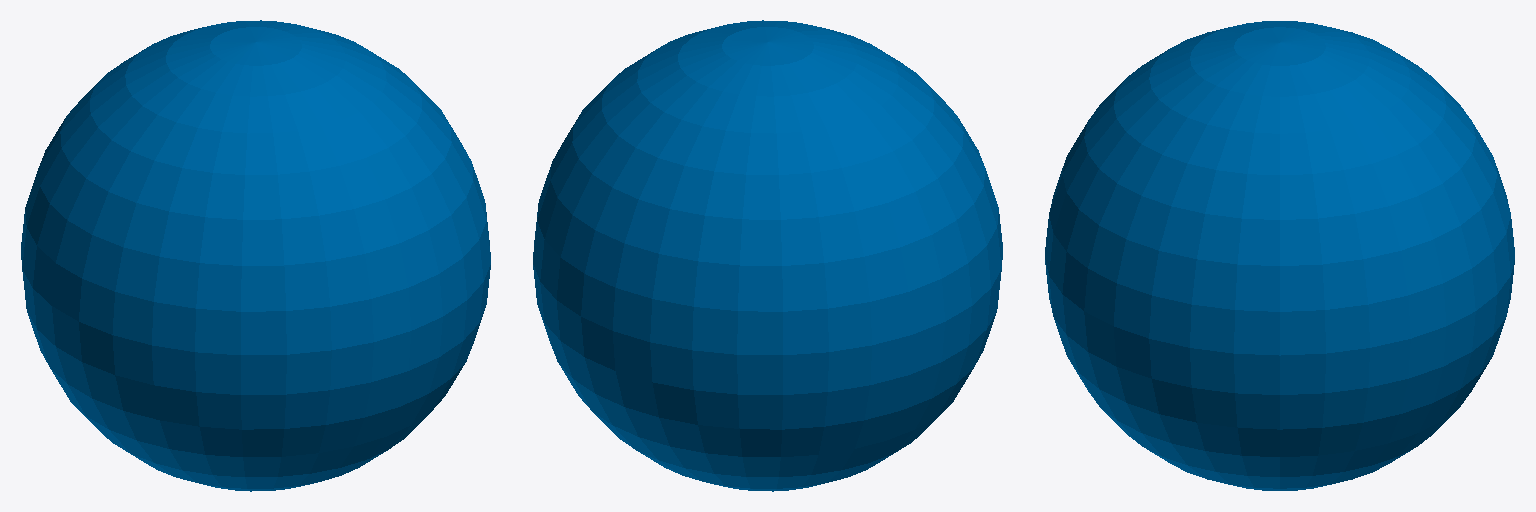
The robot description file, URDF, robot "panda":
<?xml version="1.0" ?>
<!-- =================================================================================== -->
<!-- |    This document was autogenerated by xacro from panda_arm_hand.urdf.xacro      | -->
<!-- |    EDITING THIS FILE BY HAND IS NOT RECOMMENDED                                 | -->
<!-- =================================================================================== -->
<robot name="panda" xmlns:xacro="http://www.ros.org/wiki/xacro">
  <link name="panda_link0">
  	<inertial>
      <origin rpy="0 0 0" xyz="0 0 0.05"/>
       <mass value="2.9"/>
       <inertia ixx="0.1" ixy="0" ixz="0" iyy="0.1" iyz="0" izz="0.1"/>
    </inertial>
    <visual>
      <geometry>
        <mesh filename="package://meshes/collision/link0.obj"/>
      </geometry>
      <material name="panda_white">
    		<color rgba="1. 1. 1. 1."/>
  		</material>
    </visual>
    <collision>
      <geometry>
        <mesh filename="package://meshes/collision/link0.obj"/>
      </geometry>
      <material name="panda_white"/>
    </collision>
  </link>
  <link name="panda_link1">
  	<inertial>
      <origin rpy="0 0 0" xyz="0 -0.04 -0.05"/>
       <mass value="2.7"/>
       <inertia ixx="0.1" ixy="0" ixz="0" iyy="0.1" iyz="0" izz="0.1"/>
    </inertial>
    <visual>
      <geometry>
        <mesh filename="package://meshes/visual/link1.obj"/>
      </geometry>
      <material name="panda_white"/>
    </visual>
    <collision>
      <geometry>
        <mesh filename="package://meshes/collision/link1.obj"/>
      </geometry>
      <material name="panda_white"/>
    </collision>
  </link>
  <joint name="panda_joint1" type="revolute">
    <safety_controller k_position="100.0" k_velocity="40.0" soft_lower_limit="-2.8973" soft_upper_limit="2.8973"/>
    <origin rpy="0 0 0" xyz="0 0 0.333"/>
    <parent link="panda_link0"/>
    <child link="panda_link1"/>
    <axis xyz="0 0 1"/>
    <limit effort="87" lower="-2.9671" upper="2.9671" velocity="2.1750"/>
  </joint>
  <link name="panda_link2">
  	<inertial>
      <origin rpy="0 0 0" xyz="0 -0.04 0.06"/>
       <mass value="2.73"/>
       <inertia ixx="0.1" ixy="0" ixz="0" iyy="0.1" iyz="0" izz="0.1"/>
    </inertial>
    <visual>
      <geometry>
        <mesh filename="package://meshes/visual/link2.obj"/>
      </geometry>
      <material name="panda_white"/>
    </visual>
    <collision>
      <geometry>
        <mesh filename="package://meshes/collision/link2.obj"/>
      </geometry>
      <material name="panda_white"/>
    </collision>
  </link>
  <joint name="panda_joint2" type="revolute">
    <safety_controller k_position="100.0" k_velocity="40.0" soft_lower_limit="-1.7628" soft_upper_limit="1.7628"/>
    <origin rpy="-1.57079632679 0 0" xyz="0 0 0"/>
    <parent link="panda_link1"/>
    <child link="panda_link2"/>
    <axis xyz="0 0 1"/>
    <limit effort="87" lower="-1.8326" upper="1.8326" velocity="2.1750"/>
  </joint>
  <link name="panda_link3">
	  <inertial>
      <origin rpy="0 0 0" xyz="0.01 0.01 -0.05"/>
       <mass value="2.04"/>
       <inertia ixx="0.1" ixy="0" ixz="0" iyy="0.1" iyz="0" izz="0.1"/>
    </inertial>
    <visual>
      <geometry>
        <mesh filename="package://meshes/visual/link3.obj"/>
      </geometry>
      <material name="panda_red">
    		<color rgba="1. 1. 1. 1."/>
  		</material>
    </visual>
    <collision>
      <geometry>
        <mesh filename="package://meshes/collision/link3.obj"/>
      </geometry>
    </collision>
  </link>
  <joint name="panda_joint3" type="revolute">
    <safety_controller k_position="100.0" k_velocity="40.0" soft_lower_limit="-2.8973" soft_upper_limit="2.8973"/>
    <origin rpy="1.57079632679 0 0" xyz="0 -0.316 0"/>
    <parent link="panda_link2"/>
    <child link="panda_link3"/>
    <axis xyz="0 0 1"/>
    <limit effort="87" lower="-2.9671" upper="2.9671" velocity="2.1750"/>
  </joint>
  <link name="panda_link4">
  	<inertial>
      <origin rpy="0 0 0" xyz="-0.03 0.03 0.02"/>
       <mass value="2.08"/>
       <inertia ixx="0.1" ixy="0" ixz="0" iyy="0.1" iyz="0" izz="0.1"/>
    </inertial>
    <visual>
      <geometry>
        <mesh filename="package://meshes/visual/link4.obj"/>
      </geometry>
      <material name="panda_white"/>
    </visual>
    <collision>
      <geometry>
        <mesh filename="package://meshes/collision/link4.obj"/>
      </geometry>
      <material name="panda_white"/>
    </collision>
  </link>
  <joint name="panda_joint4" type="revolute">
    <safety_controller k_position="100.0" k_velocity="40.0" soft_lower_limit="-3.0718" soft_upper_limit="-0.0698"/>
    <origin rpy="1.57079632679 0 0" xyz="0.0825 0 0"/>
    <parent link="panda_link3"/>
    <child link="panda_link4"/>
    <axis xyz="0 0 1"/>
    <limit effort="87" lower="-3.1416" upper="0.0" velocity="2.1750"/>
  </joint>
  <link name="panda_link5">
  	<inertial>
      <origin rpy="0 0 0" xyz="0 0.04 -0.12"/>
       <mass value="3"/>
       <inertia ixx="0.1" ixy="0" ixz="0" iyy="0.1" iyz="0" izz="0.1"/>
    </inertial>
    <visual>
      <geometry>
        <mesh filename="package://meshes/visual/link5.obj"/>
      </geometry>
      <material name="panda_white"/>
    </visual>
    <collision>
      <geometry>
        <mesh filename="package://meshes/collision/link5.obj"/>
      </geometry>
      <material name="panda_white"/>
    </collision>
  </link>
  <joint name="panda_joint5" type="revolute">
    <safety_controller k_position="100.0" k_velocity="40.0" soft_lower_limit="-2.8973" soft_upper_limit="2.8973"/>
    <origin rpy="-1.57079632679 0 0" xyz="-0.0825 0.384 0"/>
    <parent link="panda_link4"/>
    <child link="panda_link5"/>
    <axis xyz="0 0 1"/>
    <limit effort="12" lower="-2.9671" upper="2.9671" velocity="2.6100"/>
  </joint>
  <link name="panda_link6">
  	<inertial>
      <origin rpy="0 0 0" xyz="0.04 0 0"/>
       <mass value="1.3"/>
       <inertia ixx="0.1" ixy="0" ixz="0" iyy="0.1" iyz="0" izz="0.1"/>
    </inertial>
    <visual>
      <geometry>
        <mesh filename="package://meshes/visual/link6.obj"/>
      </geometry>
      <material name="panda_white"/>
    </visual>
    <collision>
      <geometry>
        <mesh filename="package://meshes/collision/link6.obj"/>
      </geometry>
      <material name="panda_white"/>
    </collision>
  </link>
  <joint name="panda_joint6" type="revolute">
    <safety_controller k_position="100.0" k_velocity="40.0" soft_lower_limit="-0.0175" soft_upper_limit="3.7525"/>
    <origin rpy="1.57079632679 0 0" xyz="0 0 0"/>
    <parent link="panda_link5"/>
    <child link="panda_link6"/>
    <axis xyz="0 0 1"/>
    <limit effort="12" lower="-0.0873" upper="3.8223" velocity="2.6100"/>
  </joint>
  <link name="panda_link7">
  	<inertial>
      <origin rpy="0 0 0" xyz="0 0 0.08"/>
       <mass value=".2"/>
       <inertia ixx="0.1" ixy="0" ixz="0" iyy="0.1" iyz="0" izz="0.1"/>
    </inertial>
    <visual>
      <geometry>
        <mesh filename="package://meshes/collision/link7.obj"/>
      </geometry>
      <material name="panda_white"/>
    </visual>
    <collision>
      <geometry>
        <mesh filename="package://meshes/collision/link7.obj"/>
      </geometry>
      <material name="panda_white"/>
    </collision>
  </link>
  <joint name="panda_joint7" type="revolute">
    <safety_controller k_position="100.0" k_velocity="40.0" soft_lower_limit="-2.8973" soft_upper_limit="2.8973"/>
    <origin rpy="1.57079632679 0 0" xyz="0.088 0 0"/>
    <parent link="panda_link6"/>
    <child link="panda_link7"/>
    <axis xyz="0 0 1"/>
    <limit effort="12" lower="-2.9671" upper="2.9671" velocity="2.6100"/>
  </joint>
  <link name="panda_link8">
  	 <inertial>
      <origin rpy="0 0 0" xyz="0 0 0"/>
       <mass value="0.0"/>
       <inertia ixx="0.1" ixy="0" ixz="0" iyy="0.1" iyz="0" izz="0.1"/>
    </inertial>
  </link>
  <joint name="panda_joint8" type="fixed">
    <origin rpy="0 0 0" xyz="0 0 0.107"/>
    <parent link="panda_link7"/>
    <child link="panda_link8"/>
    <axis xyz="0 0 0"/>
  </joint>
  <joint name="panda_hand_joint" type="fixed">
    <parent link="panda_link8"/>
    <child link="panda_hand"/>
    <origin rpy="0 0 -0.785398163397" xyz="0 0 0"/>
  </joint>
  <link name="panda_hand">
  	<inertial>
      <origin rpy="0 0 0" xyz="0 0 0.04"/>
       <mass value=".81"/>
       <inertia ixx="0.1" ixy="0" ixz="0" iyy="0.1" iyz="0" izz="0.1"/>
    </inertial>
    <visual>
      <geometry>
        <mesh filename="package://meshes/visual/hand.obj"/>
      </geometry>
      <material name="panda_white"/>
    </visual>
    <collision>
      <geometry>
        <mesh filename="package://meshes/collision/hand.obj"/>
      </geometry>
      <material name="panda_white"/>
    </collision>
  </link>
  <link name="panda_leftfinger">
       <contact>
      <friction_anchor/>
      <stiffness value="30000.0"/>
      <damping value="1000.0"/>
      <spinning_friction value="0.1"/>
      <rolling_friction value="0.1"/>
      <lateral_friction value="1.0"/>
    </contact>
  	<inertial>
      <origin rpy="0 0 0" xyz="0 0.01 0.02"/>
       <mass value="0.1"/>
       <inertia ixx="0.1" ixy="0" ixz="0" iyy="0.1" iyz="0" izz="0.1"/>
    </inertial>
    <visual>
      <geometry>
        <mesh filename="package://meshes/visual/finger.obj"/>
      </geometry>
      <material name="panda_white"/>
    </visual>
    <collision>
      <geometry>
        <mesh filename="package://meshes/collision/finger.obj"/>
      </geometry>
      <material name="panda_white"/>
    </collision>
  </link>
  <link name="panda_rightfinger">
        <contact>
      <friction_anchor/>
      <stiffness value="30000.0"/>
      <damping value="1000.0"/>
      <spinning_friction value="0.1"/>
      <rolling_friction value="0.1"/>
      <lateral_friction value="1.0"/>
    </contact>
  	<inertial>
      <origin rpy="0 0 0" xyz="0 -0.01 0.02"/>
       <mass value="0.1"/>
       <inertia ixx="0.1" ixy="0" ixz="0" iyy="0.1" iyz="0" izz="0.1"/>
    </inertial>
    <visual>
      <origin rpy="0 0 3.14159265359" xyz="0 0 0"/>
      <geometry>
        <mesh filename="package://meshes/visual/finger.obj"/>
      </geometry>
      <material name="panda_white"/>
    </visual>
    <collision>
      <origin rpy="0 0 3.14159265359" xyz="0 0 0"/>
      <geometry>
        <mesh filename="package://meshes/collision/finger.obj"/>
      </geometry>
      <material name="panda_white"/>
    </collision>
  </link>
  <joint name="panda_finger_joint1" type="prismatic">
    <parent link="panda_hand"/>
    <child link="panda_leftfinger"/>
    <origin rpy="0 0 0" xyz="0 0 0.0584"/>
    <axis xyz="0 1 0"/>
    <limit effort="20" lower="0.0" upper="0.04" velocity="0.2"/>
  </joint>
  <joint name="panda_finger_joint2" type="prismatic">
    <parent link="panda_hand"/>
    <child link="panda_rightfinger"/>
    <origin rpy="0 0 0" xyz="0 0 0.0584"/>
    <axis xyz="0 -1 0"/>
    <limit effort="20" lower="0.0" upper="0.04" velocity="0.2"/>
    <mimic joint="panda_finger_joint1"/>
  </joint>
  <link name="panda_grasptarget">
     <inertial>
      <origin rpy="0 0 0" xyz="0 0 0"/>
       <mass value="0.001"/>
       <inertia ixx="0.1" ixy="0" ixz="0" iyy="0.1" iyz="0" izz="0.1"/>
    </inertial>
    <visual>
      <geometry>
        <sphere radius="0.003"/>
      </geometry>
      <color rgba="1. 0. 0. 1.0"/>
    </visual>
   </link>
  <joint name="panda_grasptarget_hand" type="fixed">
    <parent link="panda_hand"/>
    <child link="panda_grasptarget"/>
    <origin rpy="0 0 0" xyz="0 0 0.07"/>
  </joint>

  <!-- D435 -->
  <!-- camera body, with origin at bottom screw mount -->
  <joint name="camera_joint" type="fixed">
    <origin rpy="0.0 -1.57 3.14" xyz="0.027 0.0 0.02"/>
    <parent link="panda_hand"/>
    <child link="camera_link"/>
  </joint>
  <link name="camera_link">
    <visual>
      <origin rpy="1.57079632679 0 1.57079632679" xyz="0.0149 0.0 0.0125"/>
      <geometry>
        <!-- <box size="${d435_cam_width} ${d435_cam_height} ${d435_cam_depth}"/> -->
        <mesh filename="package://meshes/visual/d435.dae"/>
        <!--<mesh filename="package://realsense2_camera/meshes/d435/d435.dae" />-->
      </geometry>
      <material name="aluminum"/>
    </visual>
    <collision>
      <origin rpy="0 0 0" xyz="0.0 0.0 0.0125"/>
      <geometry>
        <box size="0.02505 0.09 0.025"/>
      </geometry>
    </collision>
    <inertial>
      <!-- The following are not reliable values, and should not be used for modeling -->
      <mass value="0.564"/>
      <origin xyz="0 0 0"/>
      <inertia ixx="0.003881243" ixy="0.0" ixz="0.0" iyy="0.000498940" iyz="0.0" izz="0.003879257"/>
    </inertial>
  </link>
  <!-- camera depth joints and links -->
  <joint name="camera_depth_joint" type="fixed">
    <origin rpy="0 0 0" xyz="0.0149 0.0175 0.0125"/>
    <parent link="camera_link"/>
    <child link="camera_depth_frame"/>
  </joint>
  <link name="camera_depth_frame">
    <inertial>
      <origin rpy="0 0 0" xyz="0 0 0.00"/>
      <mass value="0.00001"/>
      <inertia ixx="0.000001" ixy="0.000" ixz="0" iyy="0.000001" iyz="0" izz="0.000001"/>
    </inertial>
  </link>
  <joint name="camera_depth_optical_joint" type="fixed">
    <origin rpy="-1.57079632679 0 -1.57079632679" xyz="0 0 0"/>
    <parent link="camera_depth_frame"/>
    <child link="camera_depth_optical_frame"/>
  </joint>
  <link name="camera_depth_optical_frame">
    <inertial>
      <origin rpy="0 0 0" xyz="0 0 0.00"/>
      <mass value="0.00001"/>
      <inertia ixx="0.000001" ixy="0.000" ixz="0" iyy="0.000001" iyz="0" izz="0.000001"/>
    </inertial>
  </link>
  <!-- camera left IR joints and links -->
  <joint name="camera_left_ir_joint" type="fixed">
    <origin rpy="0 0 0" xyz="0 0.0 0"/>
    <parent link="camera_depth_frame"/>
    <child link="camera_left_ir_frame"/>
  </joint>
  <link name="camera_left_ir_frame">
    <inertial>
      <origin rpy="0 0 0" xyz="0 0 0.00"/>
      <mass value="0.00001"/>
      <inertia ixx="0.000001" ixy="0.000" ixz="0" iyy="0.000001" iyz="0" izz="0.000001"/>
    </inertial>
  </link>
  <joint name="camera_left_ir_optical_joint" type="fixed">
    <origin rpy="-1.57079632679 0 -1.57079632679" xyz="0 0 0"/>
    <parent link="camera_left_ir_frame"/>
    <child link="camera_left_ir_optical_frame"/>
  </joint>
  <link name="camera_left_ir_optical_frame">
    <inertial>
      <origin rpy="0 0 0" xyz="0 0 0.00"/>
      <mass value="0.00001"/>
      <inertia ixx="0.000001" ixy="0.000" ixz="0" iyy="0.000001" iyz="0" izz="0.000001"/>
    </inertial>
  </link>
  <!-- camera right IR joints and links -->
  <joint name="camera_right_ir_joint" type="fixed">
    <origin rpy="0 0 0" xyz="0 -0.05 0"/>
    <parent link="camera_depth_frame"/>
    <child link="camera_right_ir_frame"/>
  </joint>
  <link name="camera_right_ir_frame">
    <inertial>
      <origin rpy="0 0 0" xyz="0 0 0.00"/>
      <mass value="0.00001"/>
    <inertia ixx="0.000001" ixy="0.000" ixz="0" iyy="0.000001" iyz="0" izz="0.000001"/>
    </inertial>
  </link>
  <joint name="camera_right_ir_optical_joint" type="fixed">
    <origin rpy="-1.57079632679 0 -1.57079632679" xyz="0 0 0"/>
    <parent link="camera_right_ir_frame"/>
    <child link="camera_right_ir_optical_frame"/>
  </joint>
  <link name="camera_right_ir_optical_frame">
    <inertial>
      <origin rpy="0 0 0" xyz="0 0 0.00"/>
      <mass value="0.00001"/>
      <inertia ixx="0.000001" ixy="0.000" ixz="0" iyy="0.000001" iyz="0" izz="0.000001"/>
    </inertial>
  </link>
  <!-- camera color joints and links -->
  <joint name="camera_color_joint" type="fixed">
    <origin rpy="0 0 0" xyz="0 0.015 0"/>
    <parent link="camera_depth_frame"/>
    <child link="camera_color_frame"/>
  </joint>
  <link name="camera_color_frame">
    <inertial>
      <origin rpy="0 0 0" xyz="0 0 0.00"/>
      <mass value="0.00001"/>
      <inertia ixx="0.000001" ixy="0.000" ixz="0" iyy="0.000001" iyz="0" izz="0.000001"/>
    </inertial>
  </link>
  <joint name="camera_color_optical_joint" type="fixed">
    <origin rpy="-1.57079632679 0 -1.57079632679" xyz="0 0 0"/>
    <parent link="camera_color_frame"/>
    <child link="camera_color_optical_frame"/>
  </joint>
  <link name="camera_color_optical_frame">
    <inertial>
      <origin rpy="0 0 0" xyz="0 0 0.00"/>
      <mass value="0.00001"/>
      <inertia ixx="0.000001" ixy="0.000" ixz="0" iyy="0.000001" iyz="0" izz="0.000001"/>
    </inertial>
  </link>

</robot>

--- Render facts (derived) ---
Views: 3 orthographic renders of the robot side by side, from view 1: azimuth 30°, elevation 25°; view 2: azimuth 150°, elevation 25°; view 3: azimuth 270°, elevation 25°.
Robot: panda — 22 links, 21 joints (7 revolute, 2 prismatic, 12 fixed); root link panda_link0; default pose: all joints at 0.
Links seen in each view (by area): view 1: panda_grasptarget; view 2: panda_grasptarget; view 3: panda_grasptarget.
Link boxes in pixels (x1,y1,x2,y2): panda_grasptarget: [21, 20, 490, 491]; panda_grasptarget: [533, 20, 1002, 491]; panda_grasptarget: [1045, 21, 1514, 490].
Size in the robot's own frame: 0.006 by 0.006 by 0.006 metres.
Meshes: 11 distinct files referenced, 0 mesh visuals loaded (none loaded); not drawn: 1 (reference not matched to a file when rendering), 11 (file found but could not be loaded).